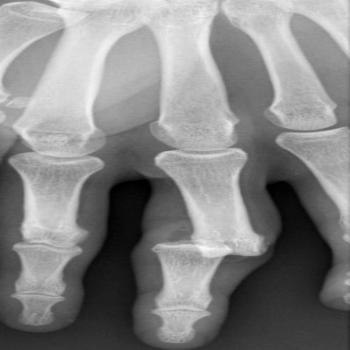Fracture: (146, 226, 270, 263)
